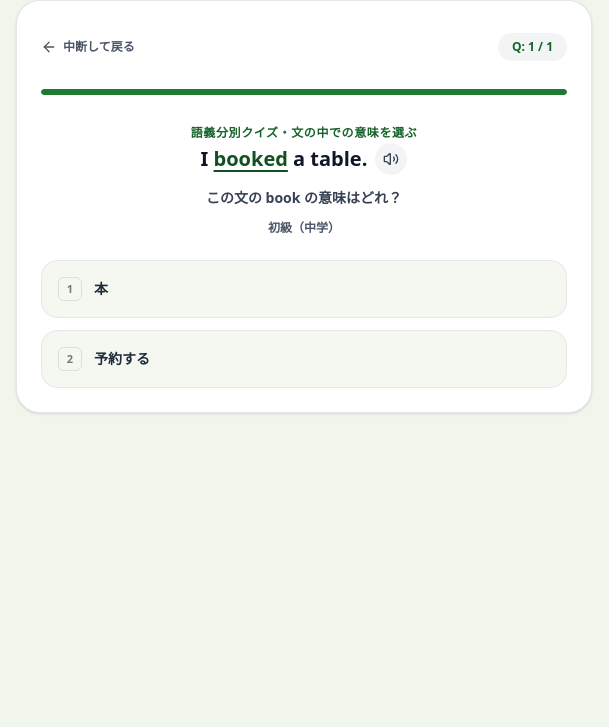
Test: 語義分別クイズ › 別の語義の問題は、今日の学習量にだけ数える（間隔反復・苦手単語に入れない）
This screenshot has width=609, height=727.
Check: the text "この文の book の意味はどれ？" is shown, box [206,188,402,206]
Check: the element with id "sense_prompt_sentence" reads "I booked a table.", box [201,143,367,176]
Click the button "1 本": (70, 288) [41,260,567,318]
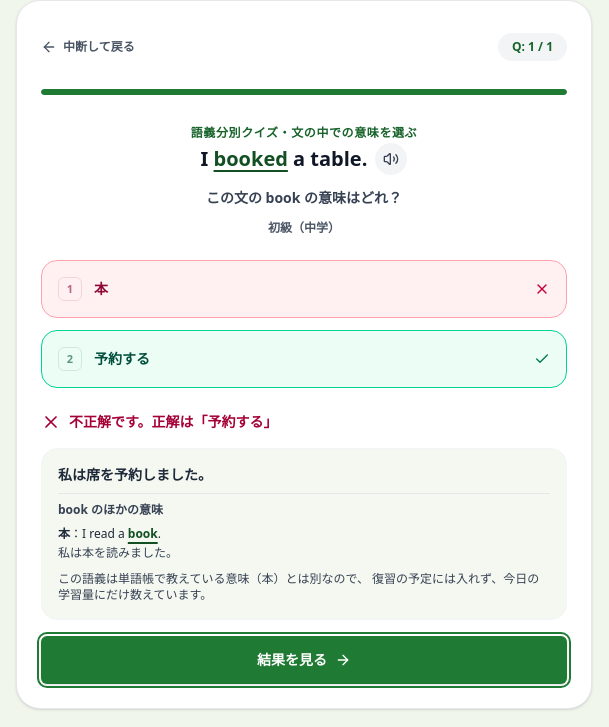
Check: the element with id "choice_quiz_feedback" shows "私は席を予約しました。", box [58,464,212,484]
Check: the element with id "choice_quiz_feedback" shows "I read a book.", box [41,412,567,684]
